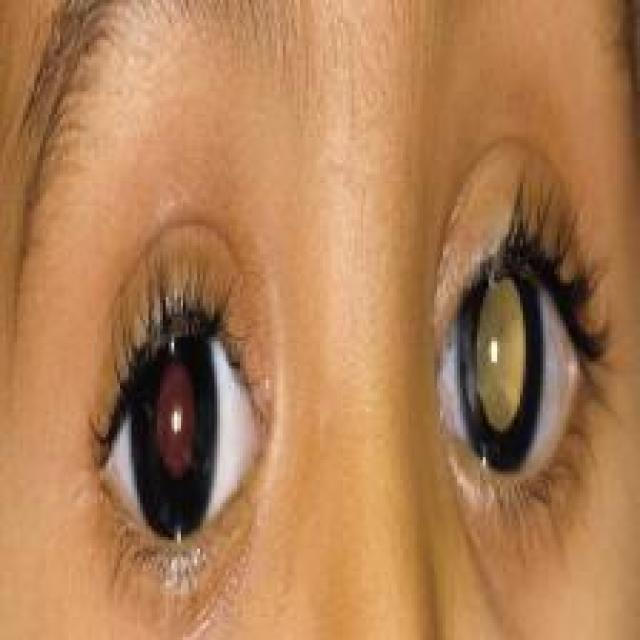reflexo-alterado: (418, 258, 610, 502)
reflexo-normal: (60, 296, 286, 564)
